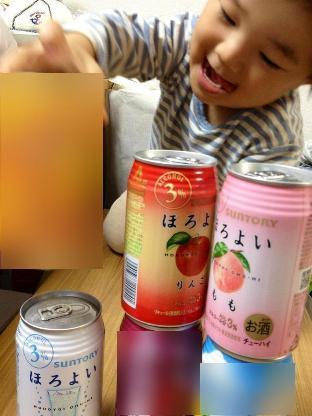Can: (203, 164, 311, 358), (120, 150, 218, 326), (14, 291, 106, 415)
